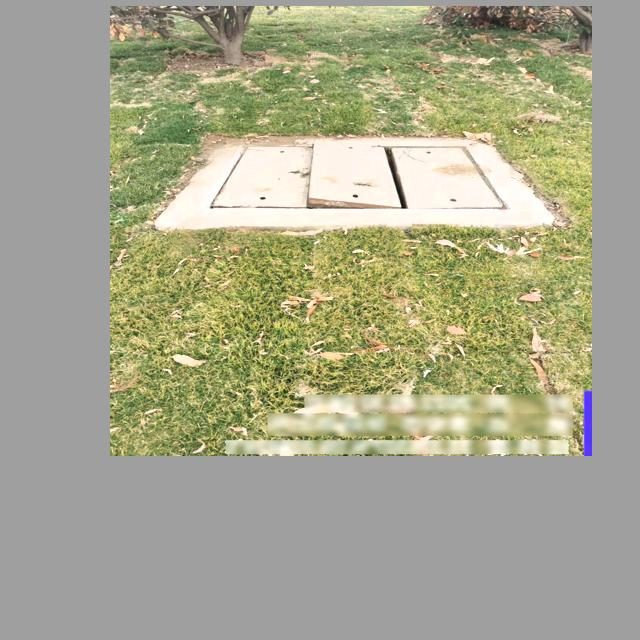uncovered: (196, 140, 515, 214)
